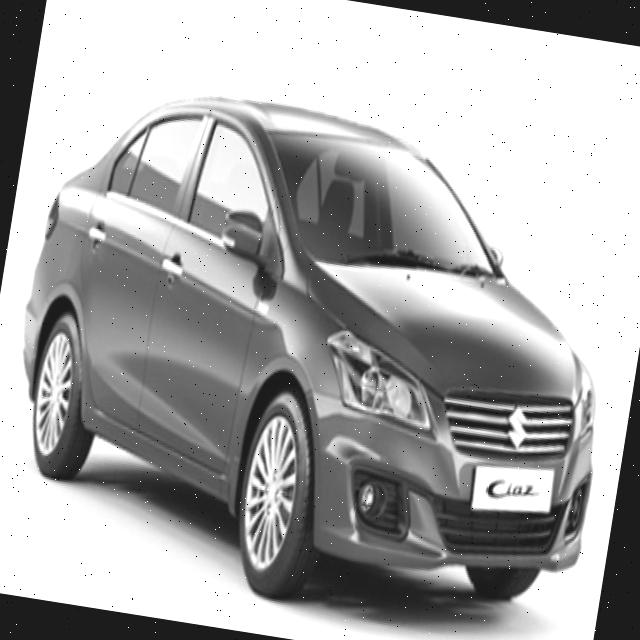Autre: (466, 461, 560, 521)
